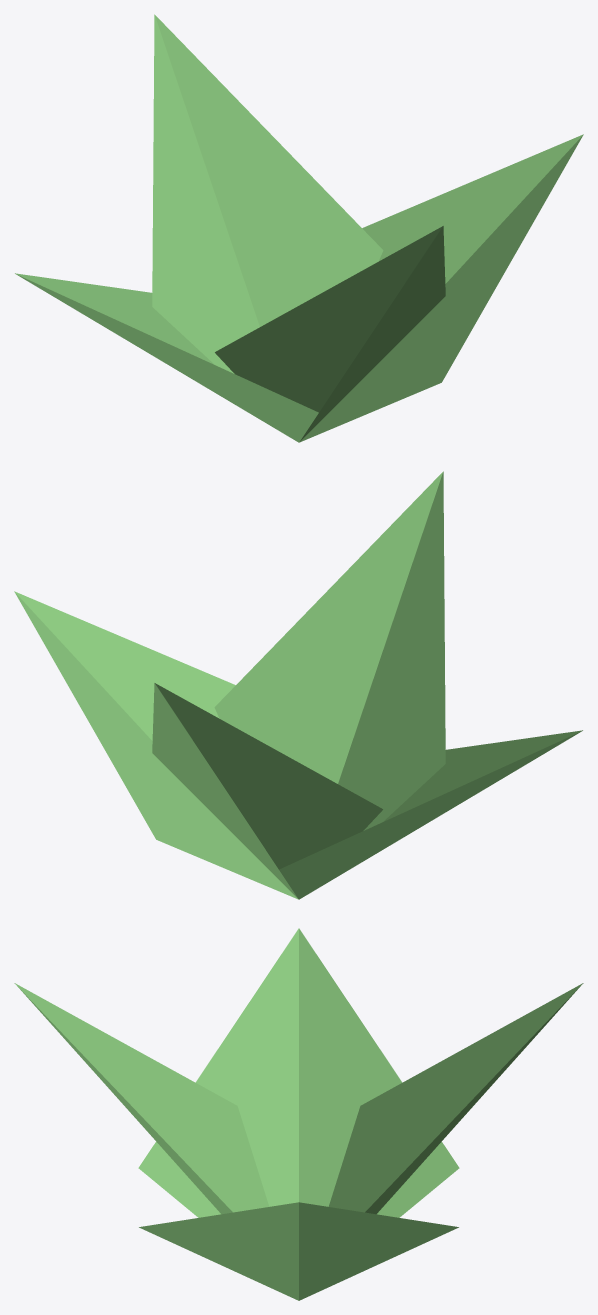
Rendered from nature_bush_small.glb.
3 renders of one model, top to bottom at view 1: azimuth 30°, elevation 25°; view 2: azimuth 150°, elevation 25°; view 3: azimuth 270°, elevation 25°, orthographic.
Visible parts, largest first — view 1: plant_bushSmall; view 2: plant_bushSmall; view 3: plant_bushSmall.
Part boxes in pixels (x1,y1,x2,y2): plant_bushSmall: (15, 14, 583, 442); plant_bushSmall: (14, 471, 582, 899); plant_bushSmall: (14, 928, 583, 1300).
Size of the model in its own units: 0.8425 by 0.456 by 0.74.
